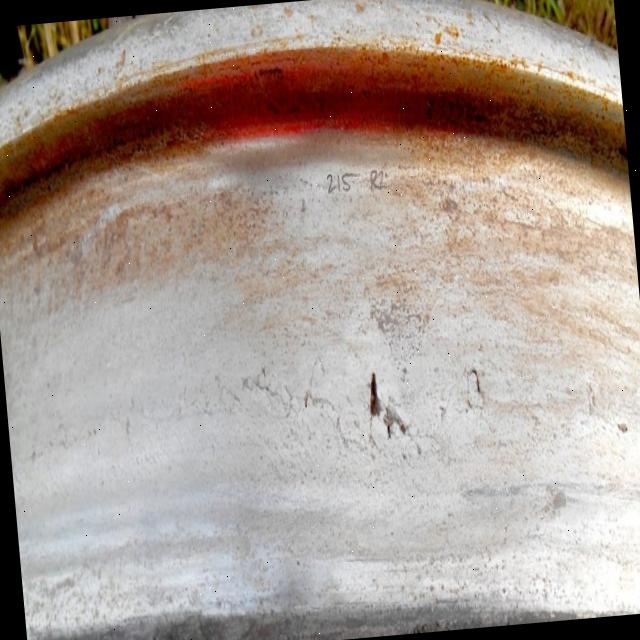Contact_Fatigue_Cracks: (102, 321, 540, 505)
